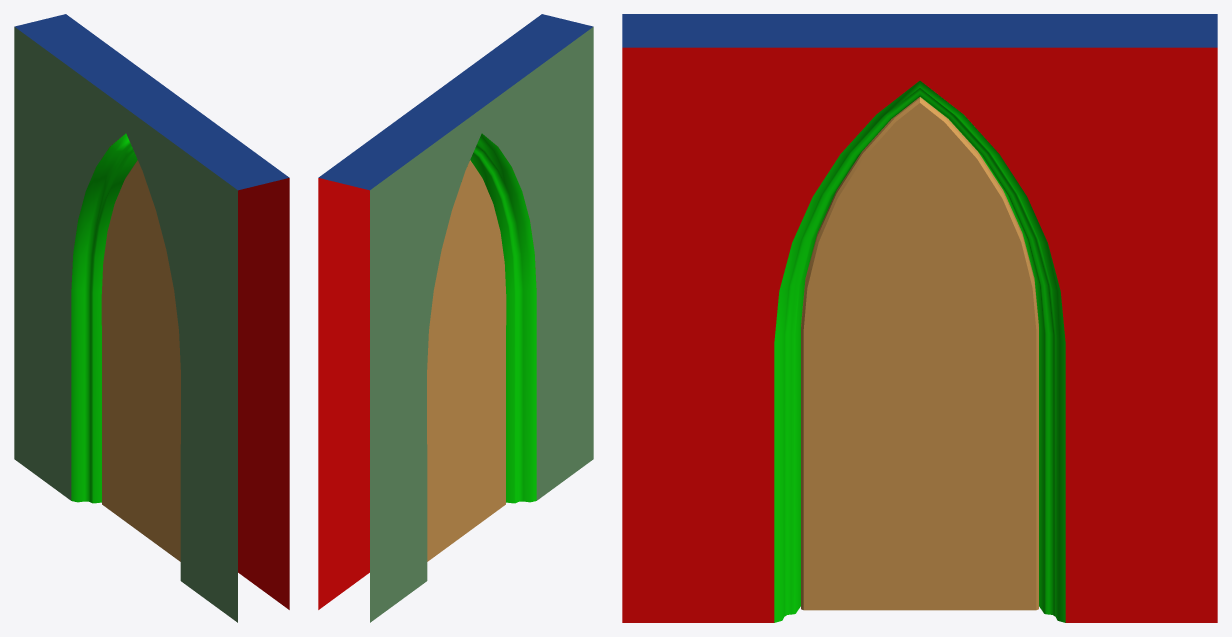
The model's file is Medieval_Wall.fbx.
3 renders of one model, left to right at view 1: azimuth 30°, elevation 25°; view 2: azimuth 150°, elevation 25°; view 3: azimuth 270°, elevation 25°, orthographic. The views are drawn at different scales.
Visible parts, largest first — view 1: Medieval_Door, Door_1; view 2: Medieval_Door, Door_1; view 3: Medieval_Door, Door_1.
Part boxes in pixels (x1,y1,x2,y2): Medieval_Door: [14, 14, 289, 622]; Door_1: [101, 160, 180, 561]; Medieval_Door: [318, 14, 593, 622]; Door_1: [427, 160, 506, 561]; Medieval_Door: [622, 14, 1217, 622]; Door_1: [801, 97, 1038, 610].
Size of the model in its own units: 40.09 by 320 by 300.
